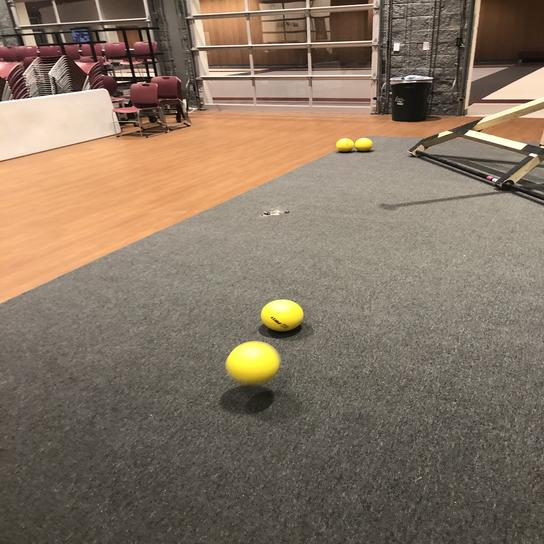ball: (225, 338, 282, 389), (260, 296, 306, 333), (333, 134, 354, 155), (355, 136, 373, 153)
